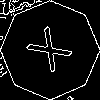X: (25, 25, 81, 81)
